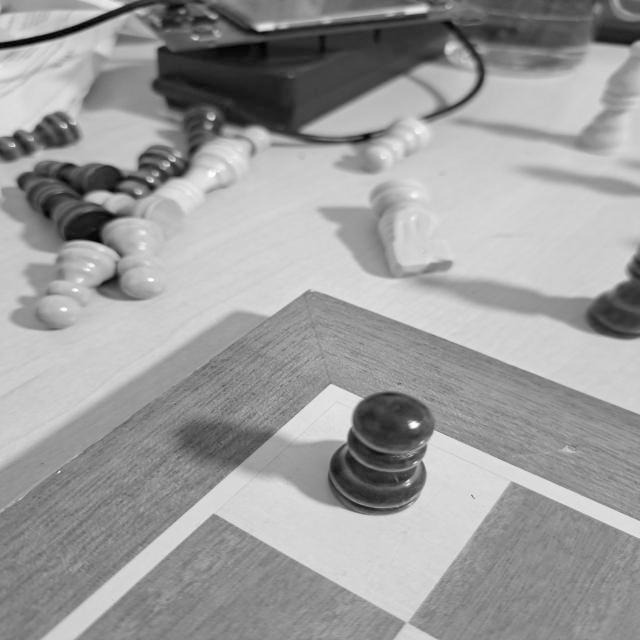chess-table-corners: (310, 371, 352, 399)
